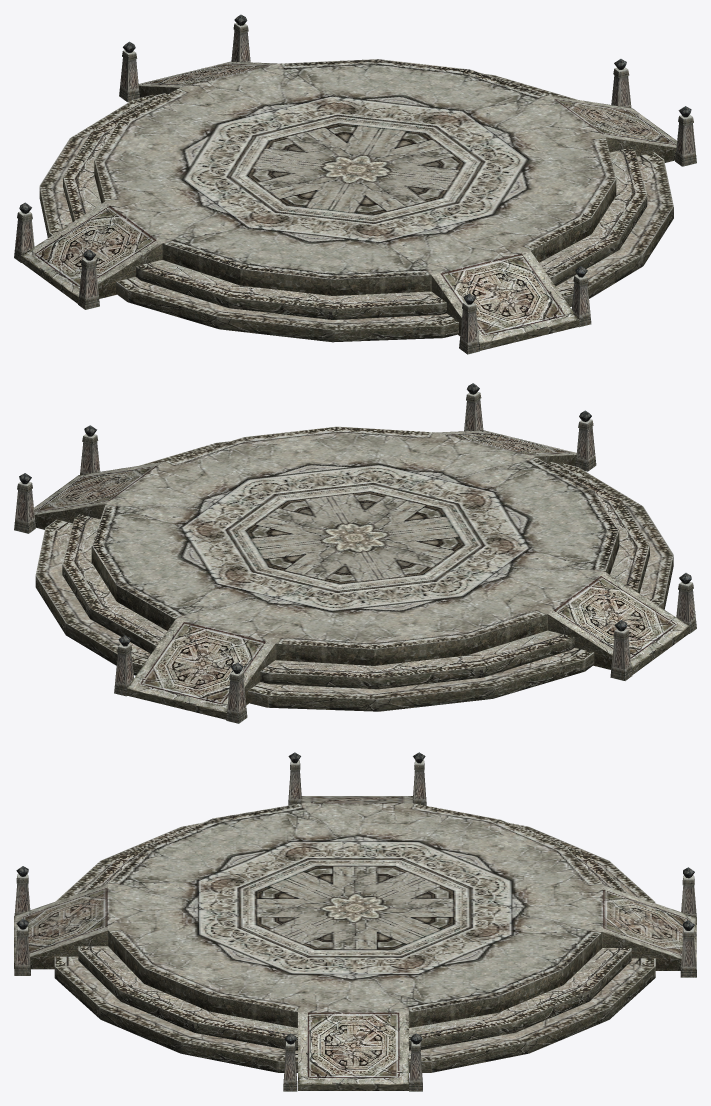
The model's file is warpgate03_01.fbx.
The picture shows the model from 3 angles, top to bottom: view 1: azimuth 30°, elevation 25°; view 2: azimuth 150°, elevation 25°; view 3: azimuth 270°, elevation 25°; orthographic projection. The views are drawn at different scales.
Parts seen in each view (by area): view 1: gate03; view 2: gate03; view 3: gate03.
Boxes of the visible parts, x1,y1,x2,y2 form: gate03: [14, 14, 696, 354]; gate03: [14, 383, 696, 723]; gate03: [14, 752, 696, 1091].
Size of the model in its own units: 12.99 by 1.15 by 13.
